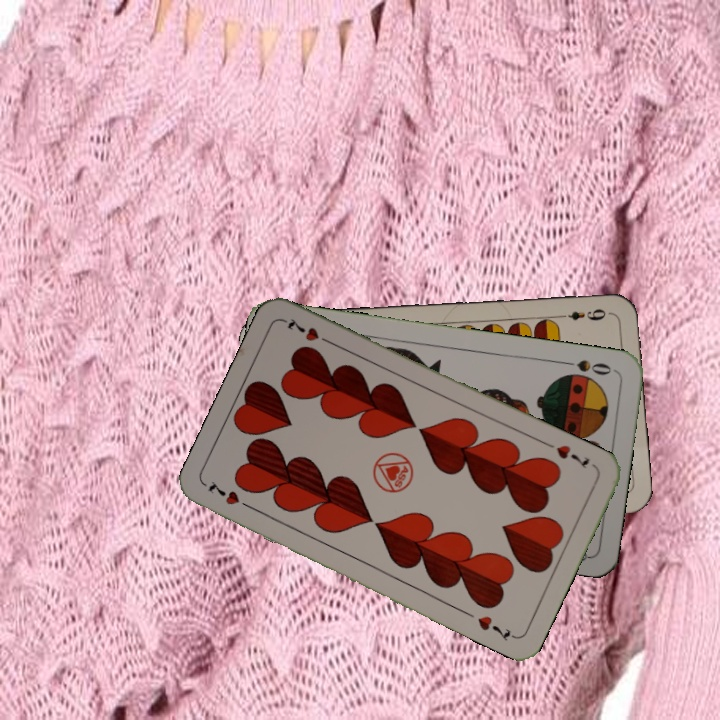E9: (553, 305, 613, 323)
H7: (204, 477, 257, 513), (552, 440, 593, 471)
SO: (559, 355, 614, 378)
